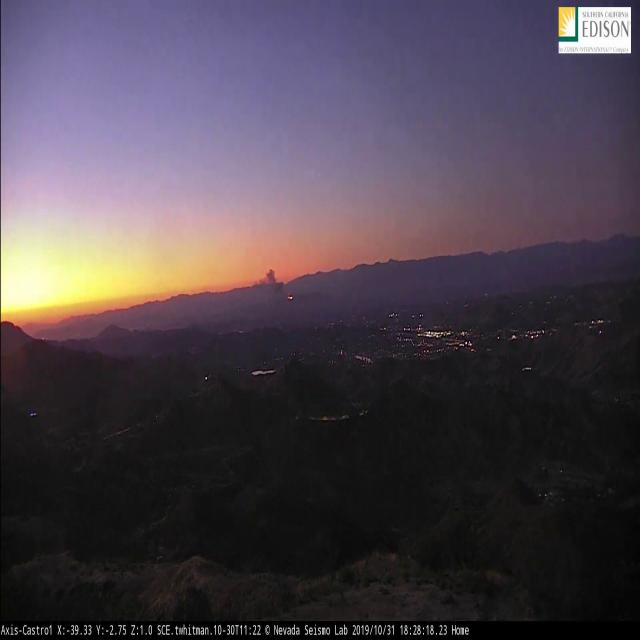smoke: (254, 268, 294, 299)
